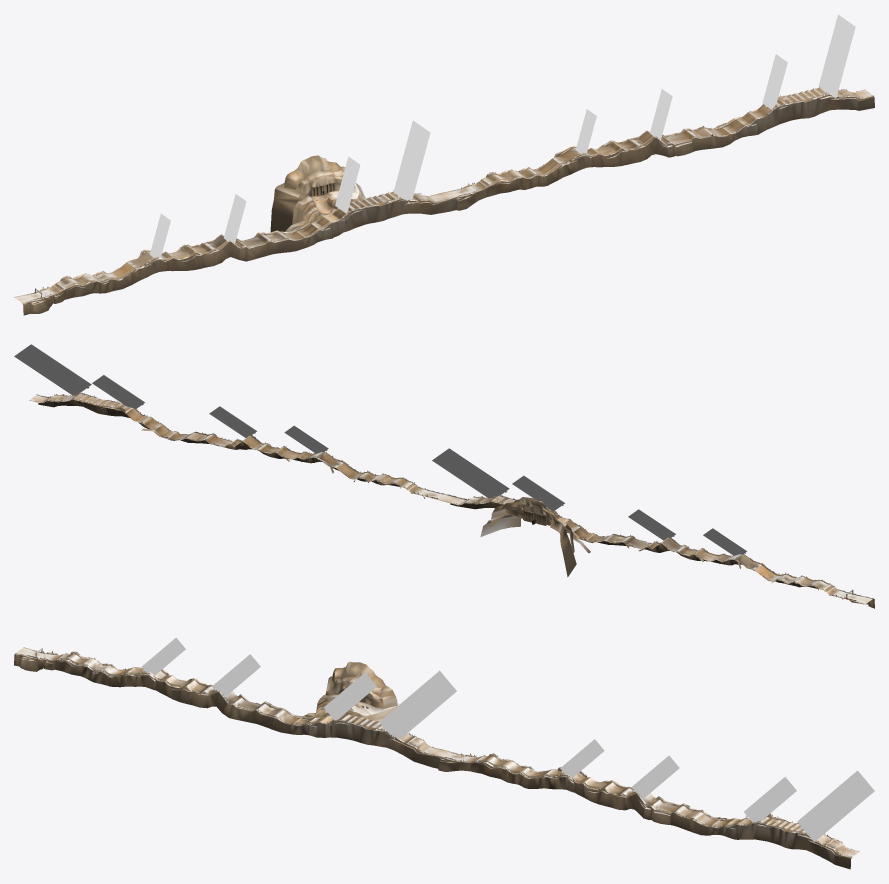
The model's file is Desert_05.fbx.
The picture shows the model from 3 angles, top to bottom: view 1: azimuth 30°, elevation 25°; view 2: azimuth 150°, elevation 25°; view 3: azimuth 330°, elevation 25°; orthographic projection.
Visible parts, largest first — view 1: Mountain_01, Light_01, Road_01, Ground_01, Tree_01; view 2: Light_01, Mountain_01, Road_01, Ground_01, Tree_01; view 3: Mountain_01, Light_01, Road_01, Ground_01, Tree_01.
Part boxes in pixels (x1,y1,x2,y2): Mountain_01: (22, 94, 874, 315); Light_01: (150, 14, 855, 257); Road_01: (15, 88, 871, 302); Ground_01: (14, 88, 872, 302); Tree_01: (33, 87, 873, 299); Light_01: (14, 344, 746, 555); Mountain_01: (38, 393, 874, 608); Road_01: (30, 394, 871, 603); Ground_01: (29, 393, 872, 604); Tree_01: (35, 392, 859, 598); Mountain_01: (14, 651, 851, 869); Light_01: (142, 637, 874, 841); Road_01: (17, 648, 858, 856); Ground_01: (16, 647, 859, 856); Tree_01: (29, 651, 853, 857).
Size of the model in its own units: 101603 by 10653 by 7671.
